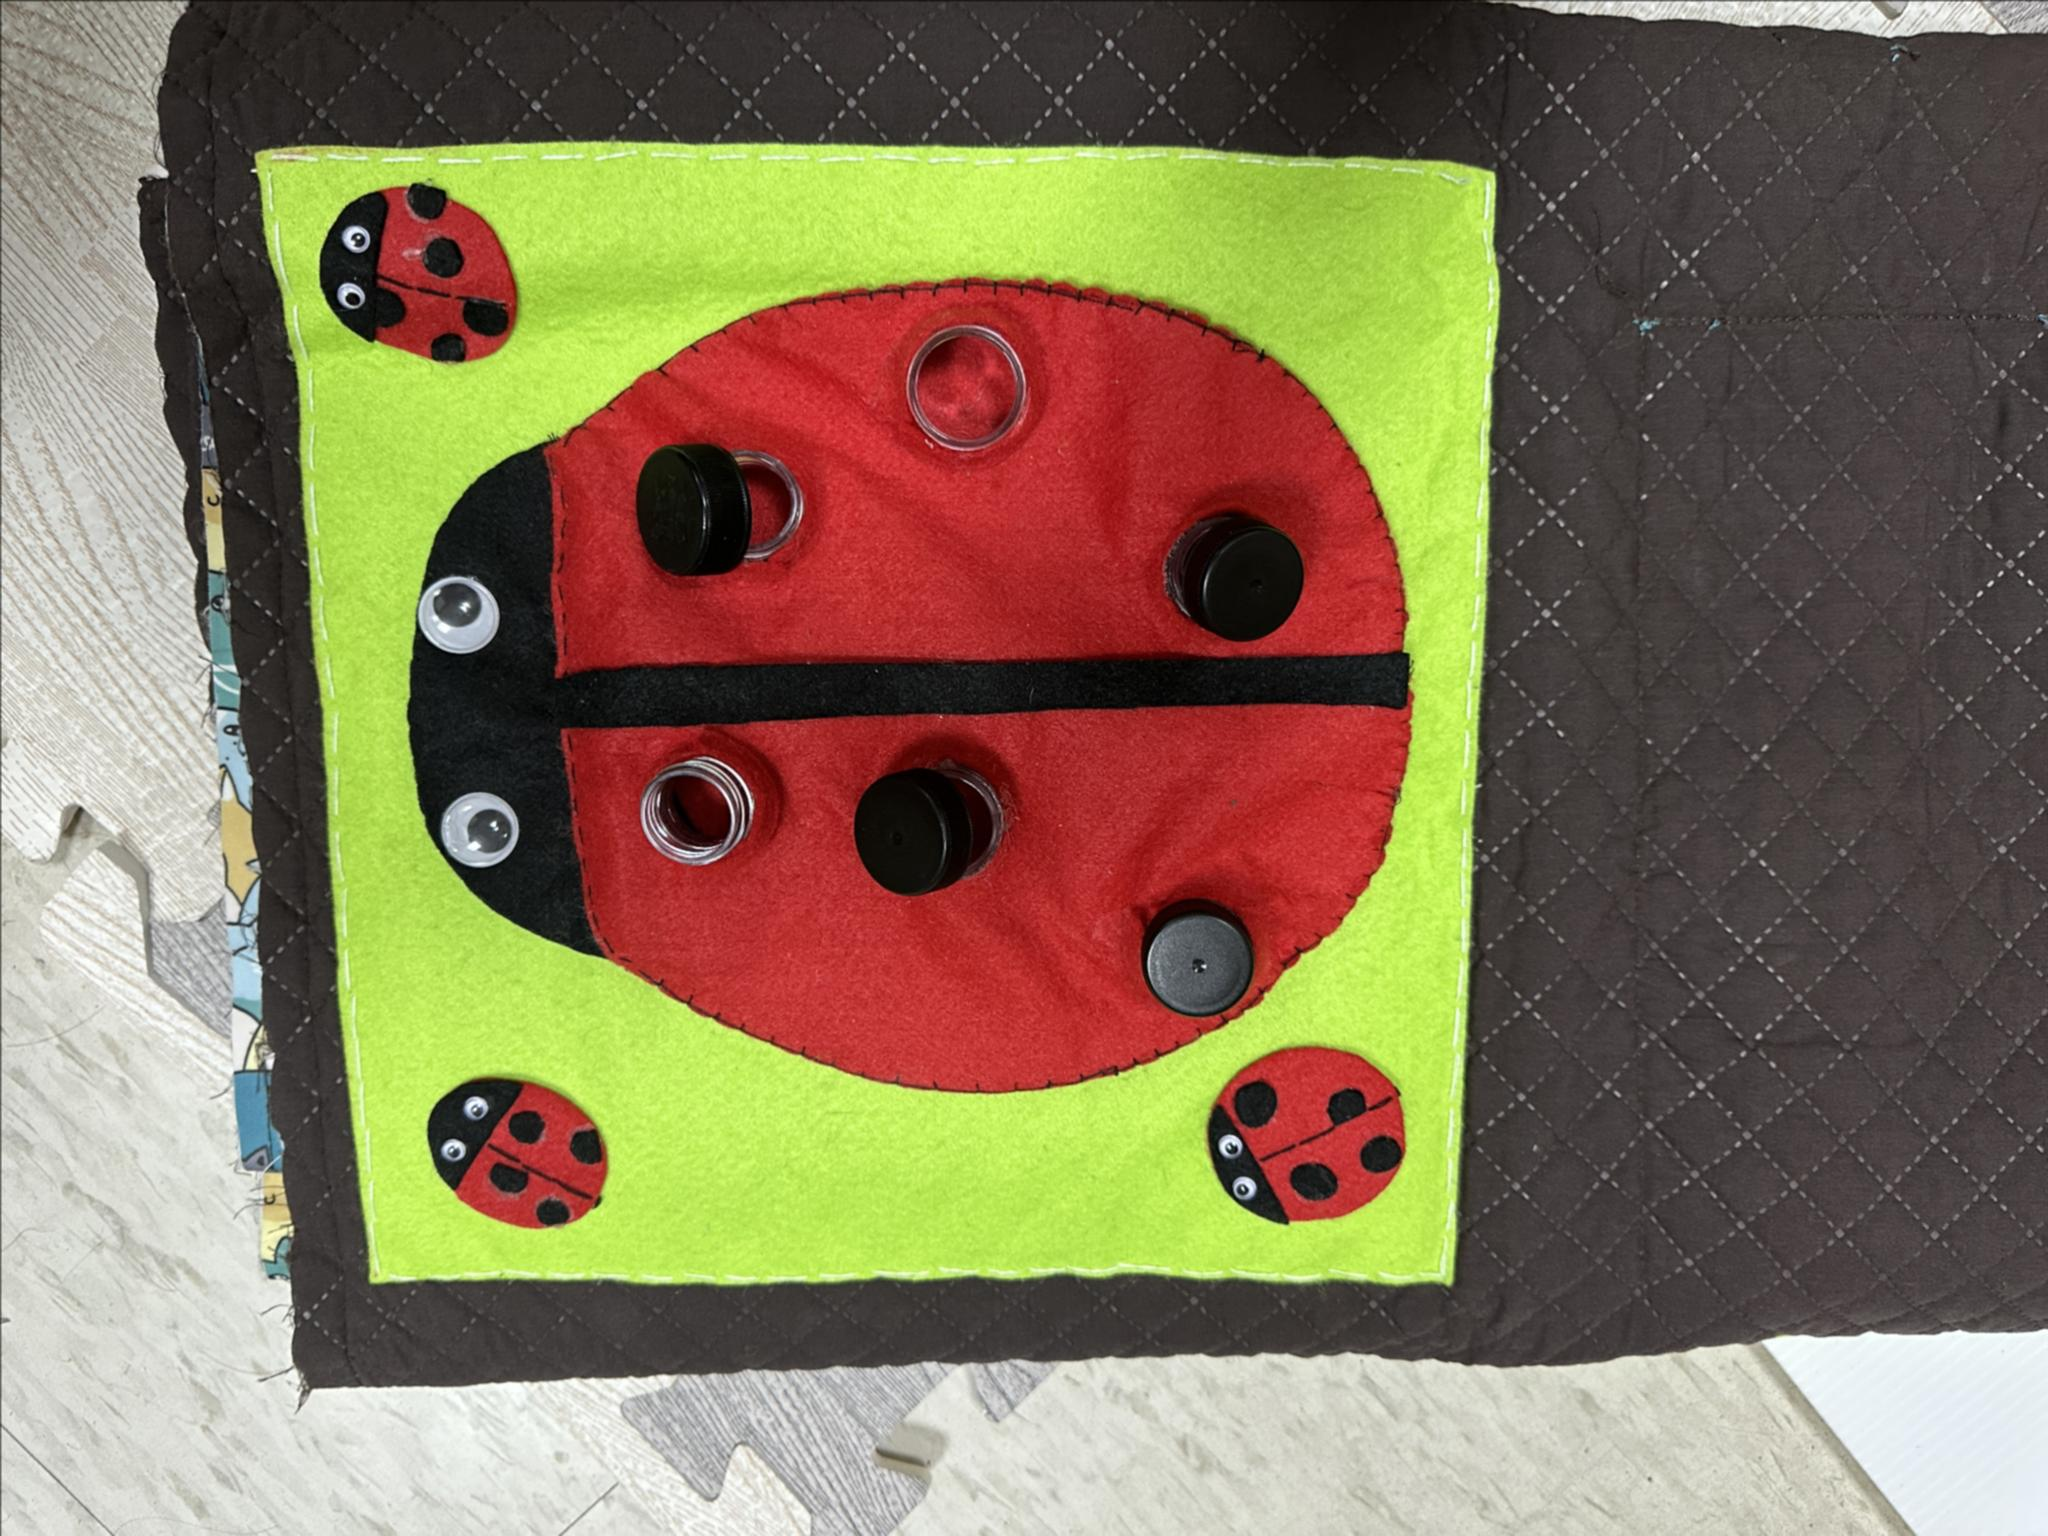cap_ng: (622, 423, 819, 591), (1135, 482, 1324, 650), (851, 745, 1027, 915)
cap_ok: (1113, 881, 1292, 1037)
